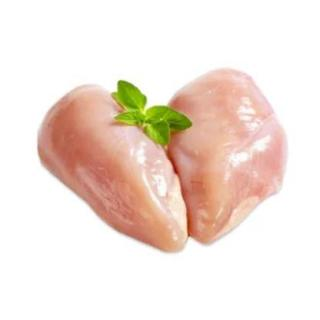Ayam: (37, 65, 297, 252), (36, 84, 191, 253), (167, 68, 287, 249)
